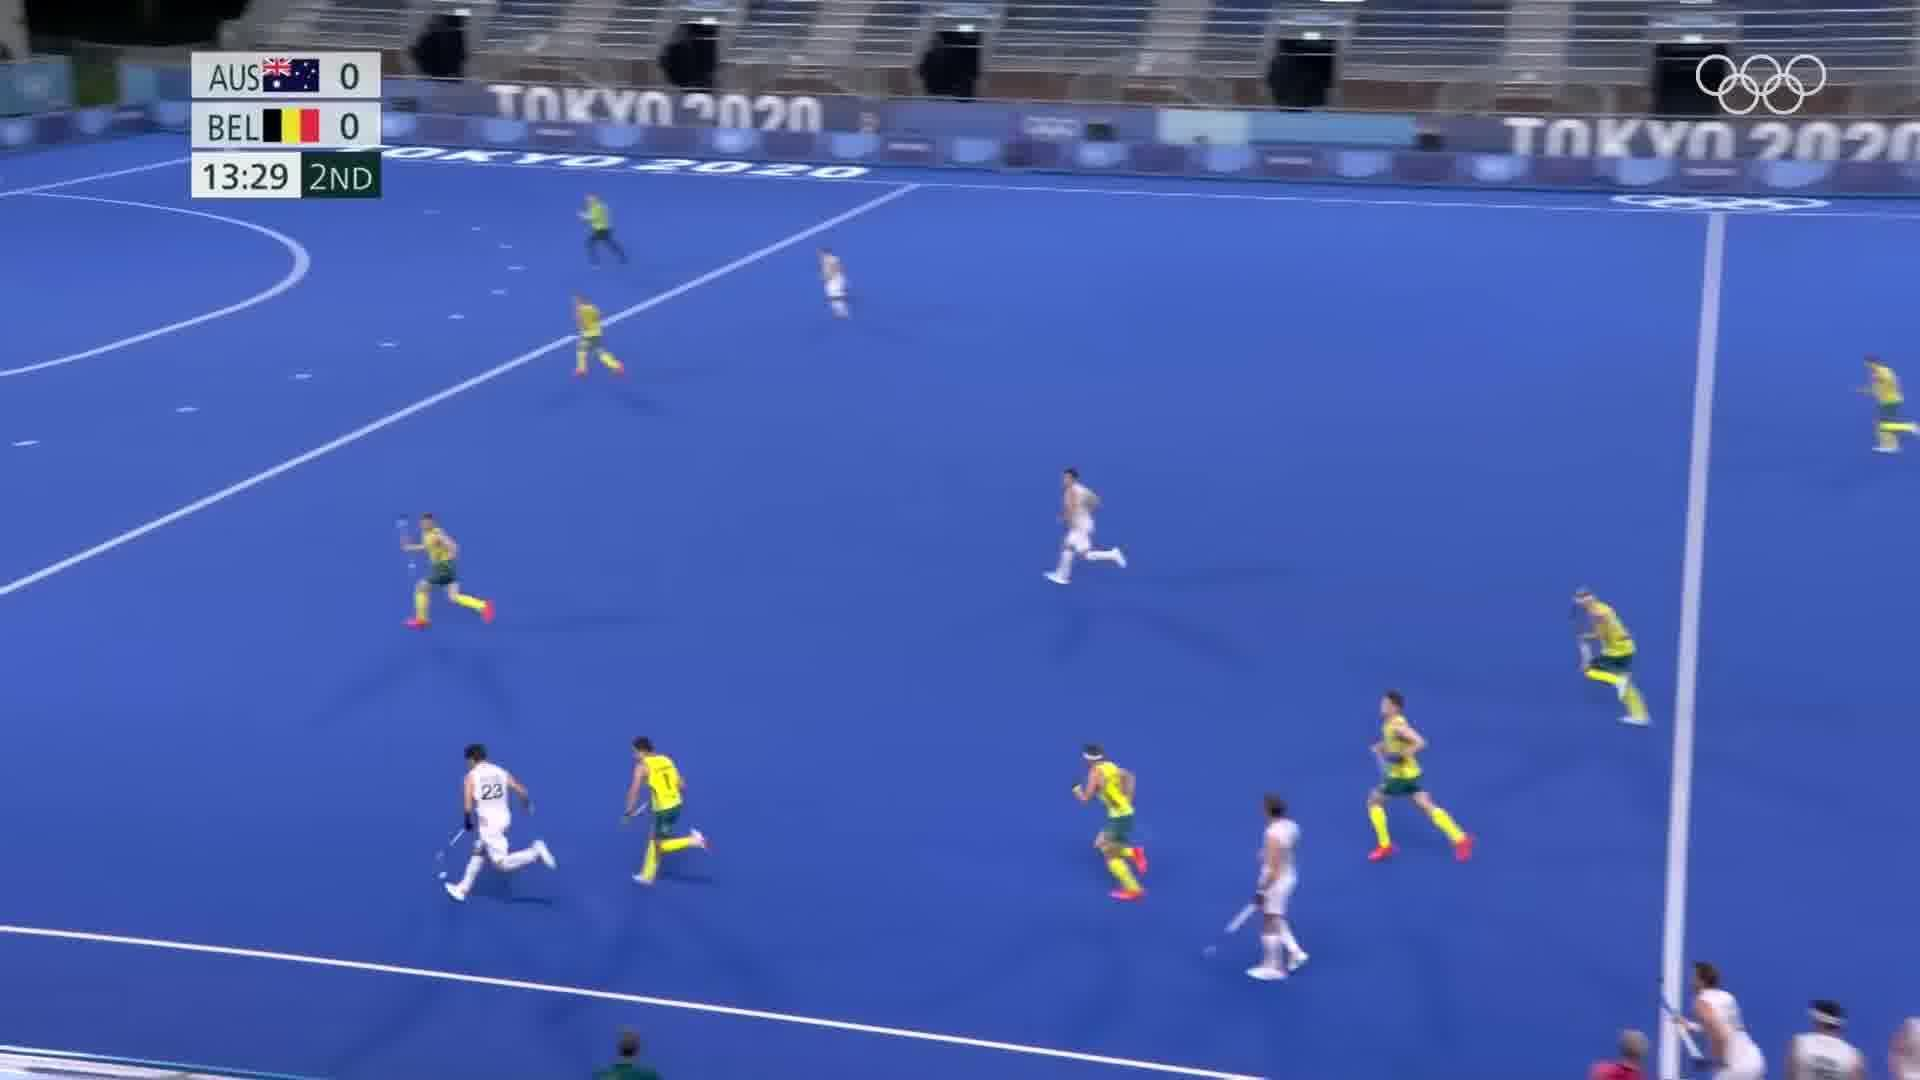ball: (429, 864, 454, 882)
